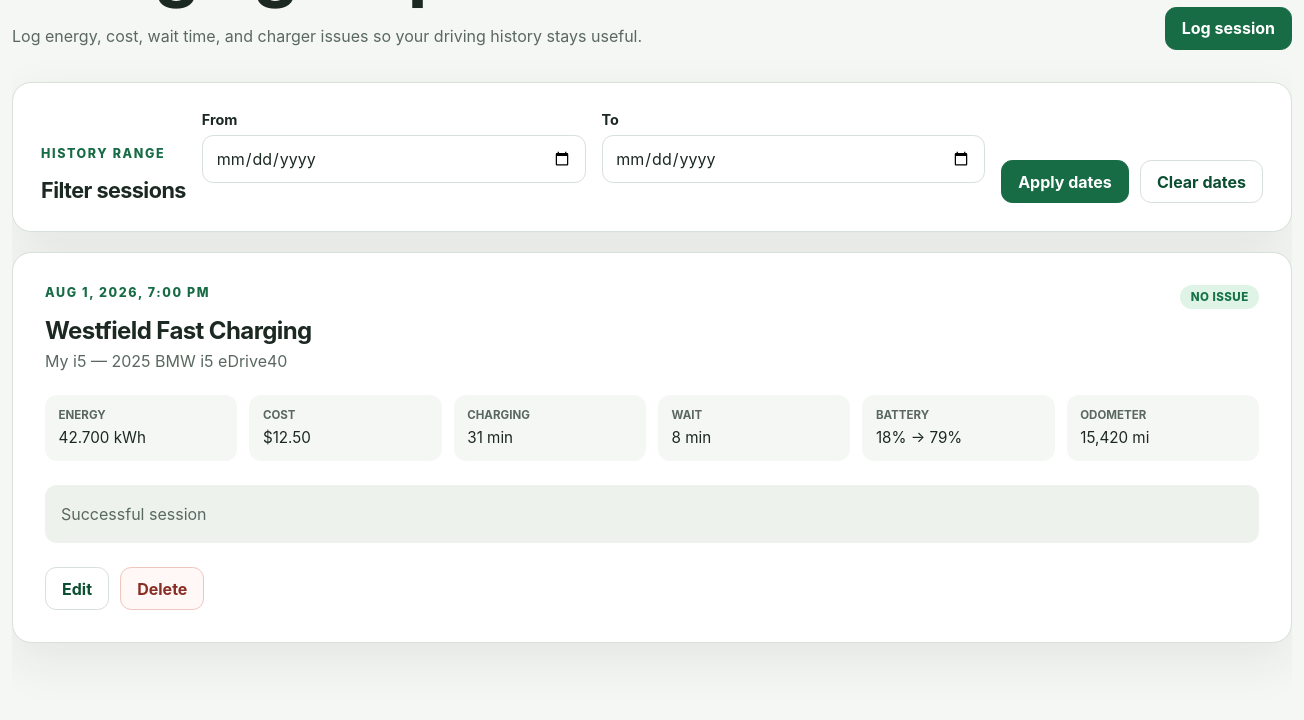
Test case: charging-session history UI › deletes a session and displays the refreshed empty state
(page scrolled)
Check: the element "Westfield Fast Charging" is shown, box x1=12 y1=252 x2=1292 y2=643
Click the button "Delete" at (162, 588), box x1=120 y1=567 x2=204 y2=610
(page scrolled)
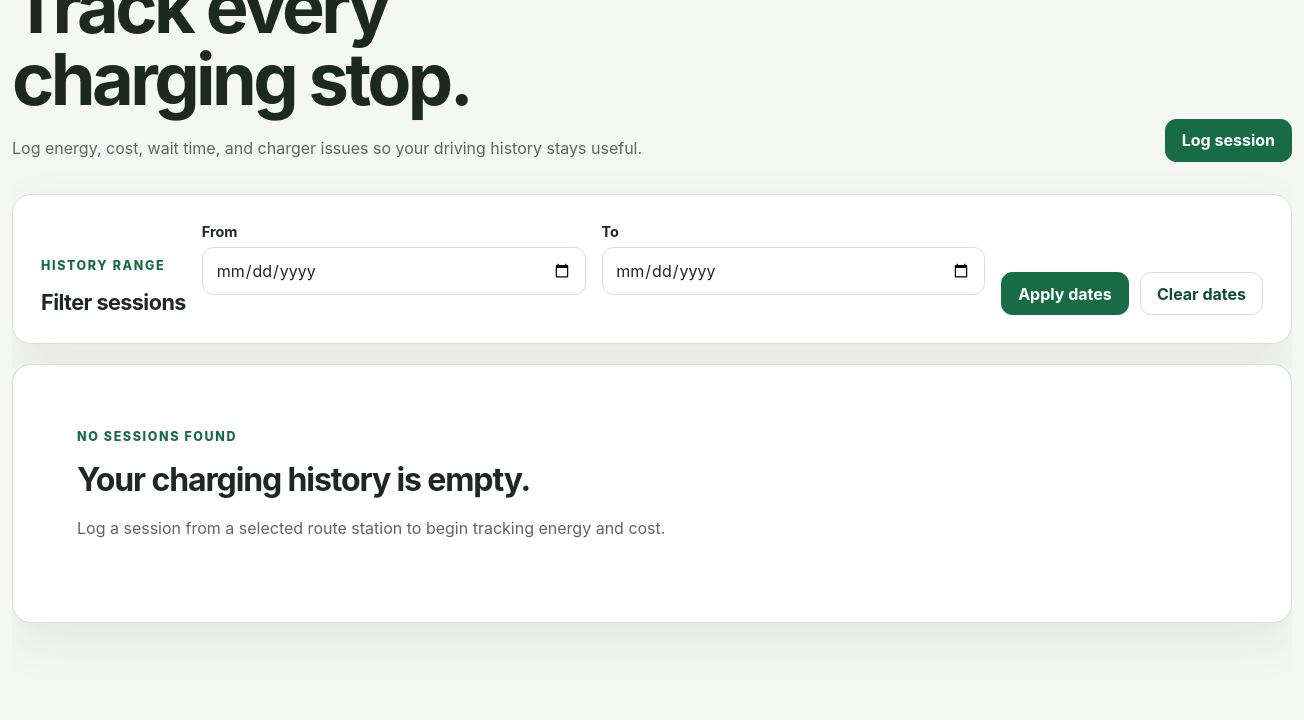
Check: the heading "Your charging history is empty." is shown, box x1=77 y1=460 x2=530 y2=499
